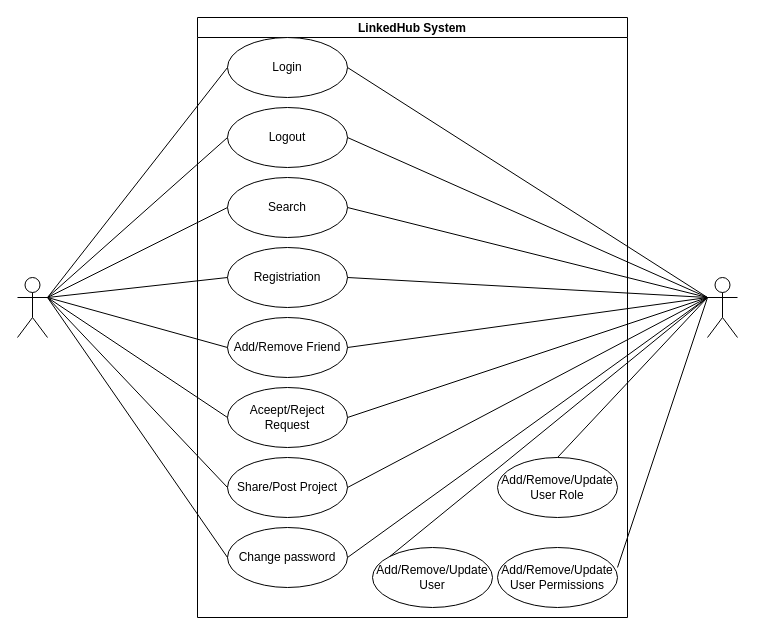
Some shapes in this 757 by 635 pixel diagram are drawn without their labels. Here are the shapes that lost their labels. From the top down, the centre of each, then its label:
At (x=32, y=307): "User".
At (x=722, y=307): "Admin".
